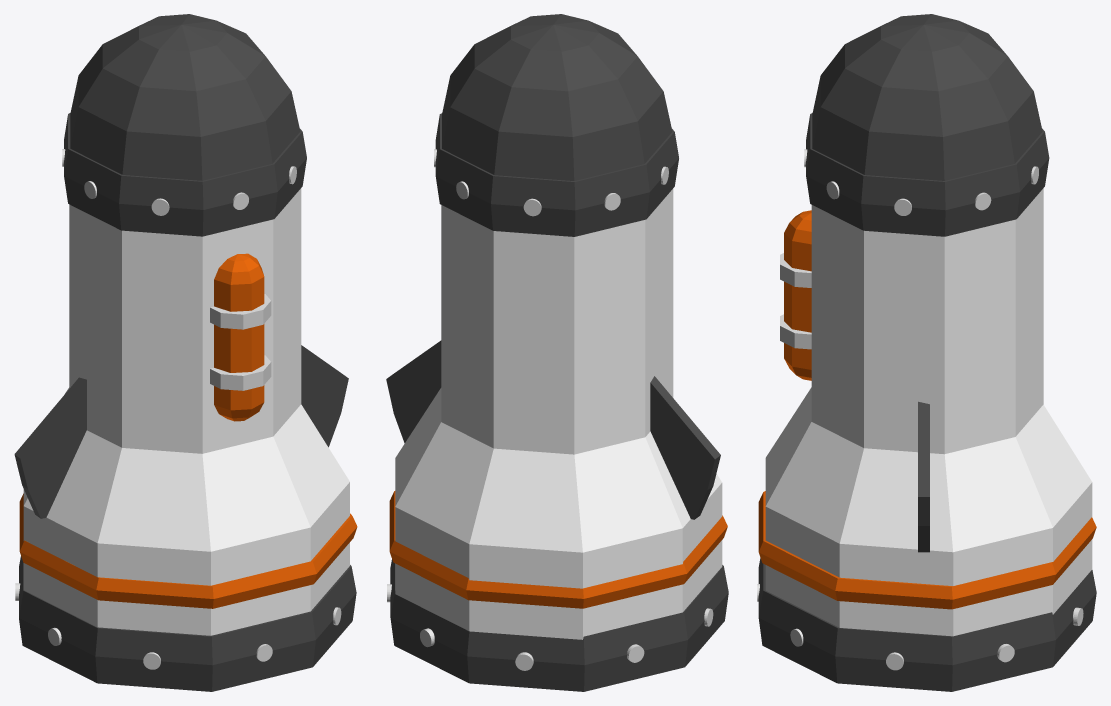
Rendered from Rocket Thin To Wide 3.fbx.
The picture shows the model from 3 angles, left to right: view 1: azimuth 30°, elevation 25°; view 2: azimuth 150°, elevation 25°; view 3: azimuth 270°, elevation 25°; orthographic projection.
Visible parts, largest first — view 1: Окружность.007; view 2: Окружность.007; view 3: Окружность.007.
Boxes of the visible parts, bbox=[...] form: Окружность.007: bbox=[14, 14, 357, 691]; Окружность.007: bbox=[386, 14, 728, 691]; Окружность.007: bbox=[757, 14, 1096, 691].
Bounding box in the file's own units: 317 × 550 × 284.
